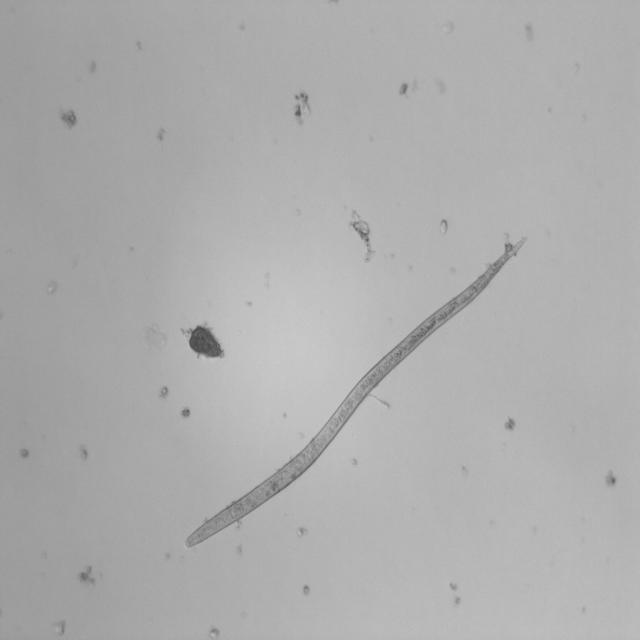Meloidogyne: (176, 224, 534, 552)
